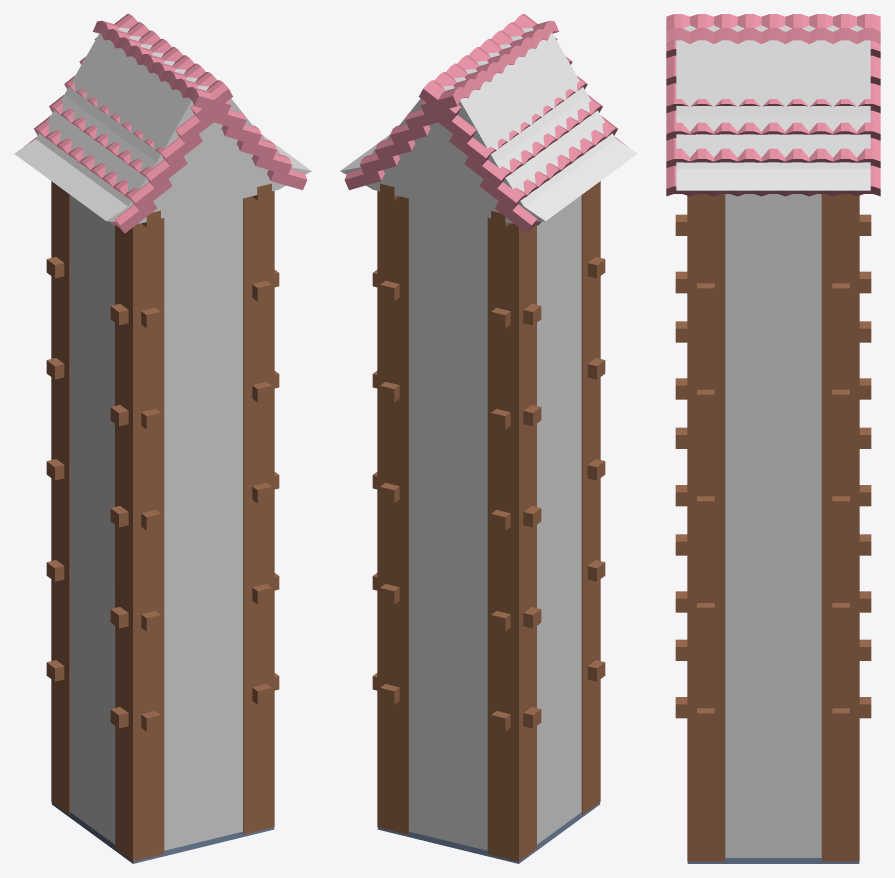
Rendered from building#1.fbx.
The picture shows the model from 3 angles, left to right: view 1: azimuth 30°, elevation 25°; view 2: azimuth 150°, elevation 25°; view 3: azimuth 270°, elevation 25°; orthographic projection. The views are drawn at different scales.
Visible parts, largest first — view 1: COLLIDEER, Grapple, roof tiles, tower, stone bottom, wooden nub.001, wooden nub; view 2: COLLIDEER, Grapple, roof tiles, tower, stone bottom, wooden nub.001, wooden nub; view 3: COLLIDEER, Grapple, roof tiles, tower, wooden nub, stone bottom, wooden nub.001.
Part boxes in pixels (x1,y1,x2,y2): COLLIDEER: (14, 27, 311, 850); Grapple: (51, 181, 274, 861); roof tiles: (24, 14, 307, 233); tower: (46, 183, 279, 631); stone bottom: (51, 802, 274, 863); wooden nub.001: (46, 660, 279, 728); wooden nub: (141, 684, 271, 731); COLLIDEER: (340, 27, 637, 850); Grapple: (377, 181, 600, 861); roof tiles: (344, 14, 627, 233); tower: (372, 183, 605, 631); stone bottom: (377, 802, 600, 863); wooden nub.001: (372, 660, 605, 728); wooden nub: (380, 684, 510, 731); COLLIDEER: (676, 25, 870, 857); Grapple: (687, 194, 859, 861); roof tiles: (666, 14, 880, 196); tower: (675, 194, 871, 621); wooden nub: (675, 639, 871, 718); stone bottom: (687, 858, 859, 863); wooden nub.001: (697, 708, 849, 727).
Bounding box in the file's own units: 1327 × 4720 × 1138.
